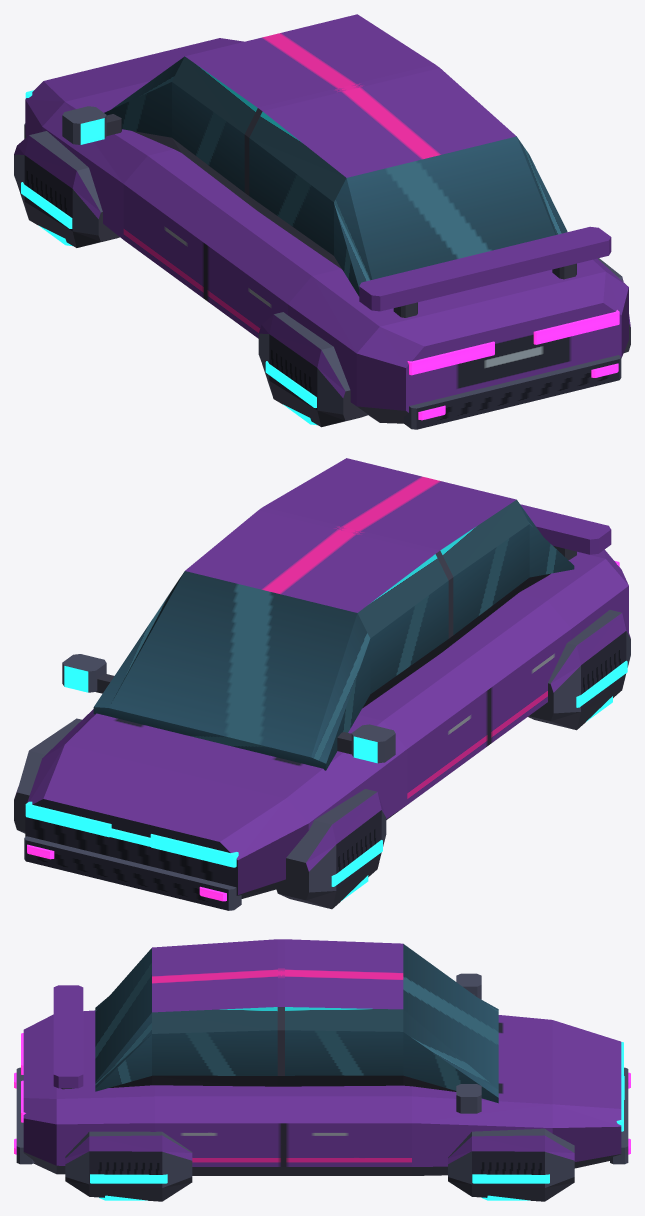
Rendered from violet_sedan.glb.
3 views of the same model, one above another, from view 1: azimuth 30°, elevation 25°; view 2: azimuth 150°, elevation 25°; view 3: azimuth 270°, elevation 25° (orthographic). The views are drawn at different scales.
Visible parts, largest first — view 1: cab_glazing, hull, tail_wing, front_pod_l, rear_pod_l, bumper, mirror, rear_lens.001, rear_lens, induction_strip.001, induction_strip; view 2: cab_glazing, hull, front_pod_l, rear_pod_l, bumper.001, tail_wing, front_pod_r, mirror, mirror.001, headlamp, headlamp.001, induction_strip (+1 smaller); view 3: cab_glazing, hull, front_pod_r, rear_pod_r, tail_wing, induction_strip.002, induction_strip.003, mirror.001, bumper, bumper.001, mirror.
Part boxes in pixels (bbox=[...]): cab_glazing: bbox=[104, 14, 567, 296]; hull: bbox=[25, 38, 628, 423]; tail_wing: bbox=[359, 226, 611, 311]; front_pod_l: bbox=[14, 131, 119, 247]; rear_pod_l: bbox=[258, 312, 367, 427]; bumper: bbox=[403, 355, 621, 429]; mirror: bbox=[62, 106, 106, 144]; rear_lens.001: bbox=[533, 310, 619, 344]; rear_lens: bbox=[407, 341, 494, 375]; induction_strip.001: bbox=[21, 182, 72, 228]; induction_strip: bbox=[265, 361, 316, 407]; cab_glazing: bbox=[93, 458, 574, 770]; hull: bbox=[25, 549, 628, 898]; front_pod_l: bbox=[275, 789, 386, 909]; rear_pod_l: bbox=[528, 610, 630, 730]; bumper.001: bbox=[24, 836, 241, 910]; tail_wing: bbox=[520, 504, 611, 554]; front_pod_r: bbox=[14, 718, 81, 833]; mirror: bbox=[351, 724, 395, 763]; mirror.001: bbox=[62, 654, 106, 692]; headlamp: bbox=[150, 834, 238, 867]; headlamp.001: bbox=[25, 801, 111, 837]; induction_strip: bbox=[576, 660, 627, 707]; cab_glazing: bbox=[95, 939, 498, 1103]; hull: bbox=[23, 1010, 621, 1175]; front_pod_r: bbox=[448, 1128, 574, 1201]; rear_pod_r: bbox=[65, 1131, 192, 1201]; tail_wing: bbox=[53, 985, 83, 1088]; induction_strip.002: bbox=[90, 1174, 167, 1183]; induction_strip.003: bbox=[472, 1174, 549, 1183]; mirror.001: bbox=[456, 1084, 481, 1113]; bumper: bbox=[16, 1067, 34, 1164]; bumper.001: bbox=[610, 1067, 628, 1164]; mirror: bbox=[456, 973, 481, 999].
Size of the model in its own units: 2.07 by 1.34 by 4.39.
Materials: 3 (3 with a texture image).
